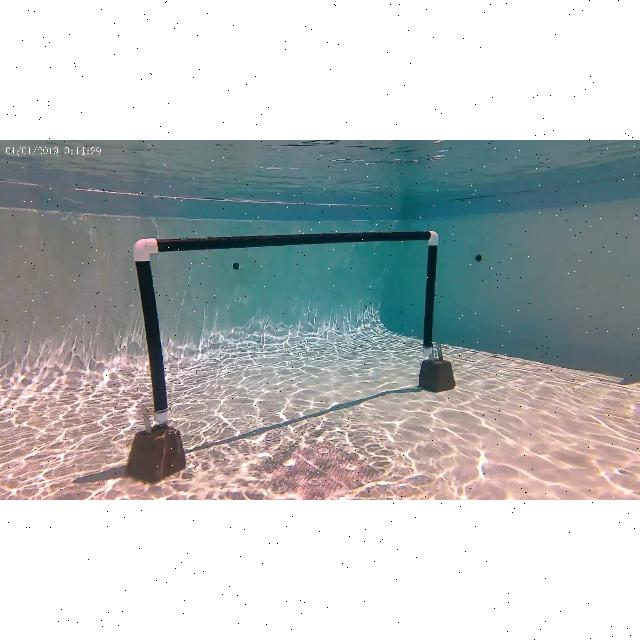prequal gate: (133, 230, 439, 418)
prequal gate leg l: (133, 233, 175, 423)
prequal gate leg r: (423, 230, 439, 362)
